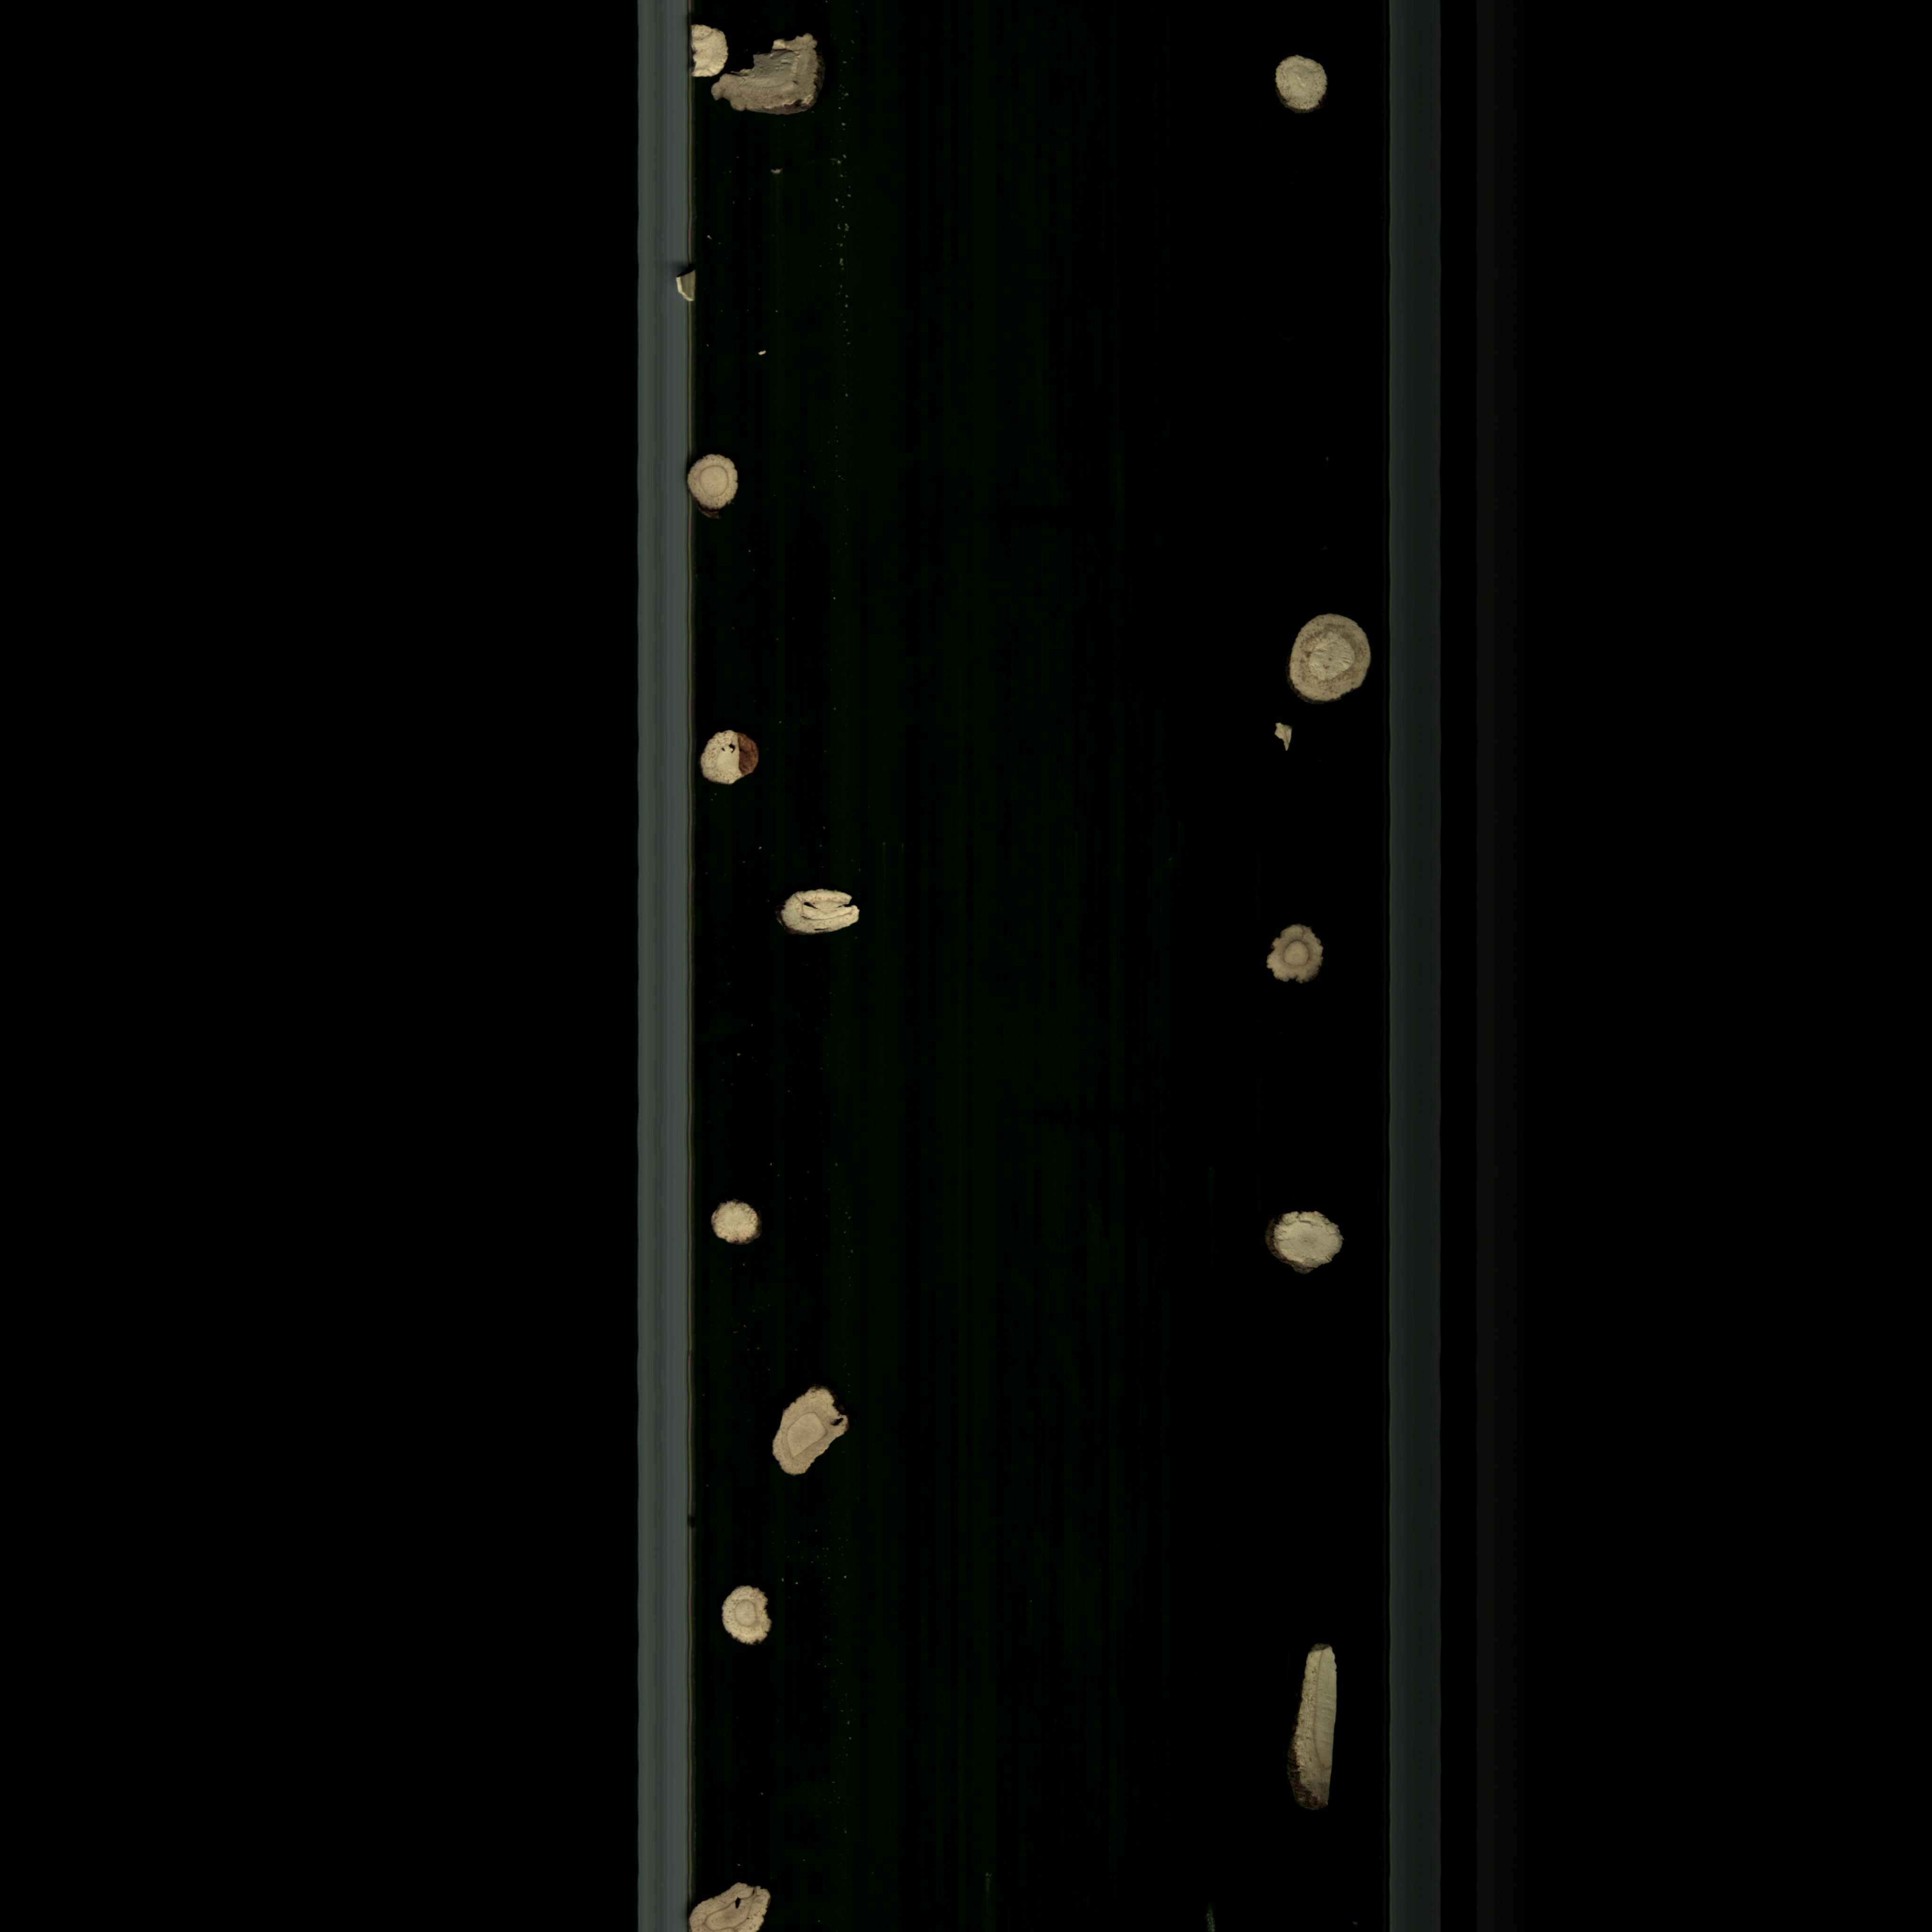bark: (694, 718, 770, 803)
debris: (713, 30, 847, 145), (688, 18, 734, 92)
distortion: (766, 1380, 856, 1486), (1293, 1644, 1336, 1822), (1258, 920, 1332, 991)
dreg: (672, 267, 708, 310), (1267, 722, 1300, 757), (748, 345, 778, 364)
hole: (766, 885, 878, 945), (686, 1877, 782, 1932)
